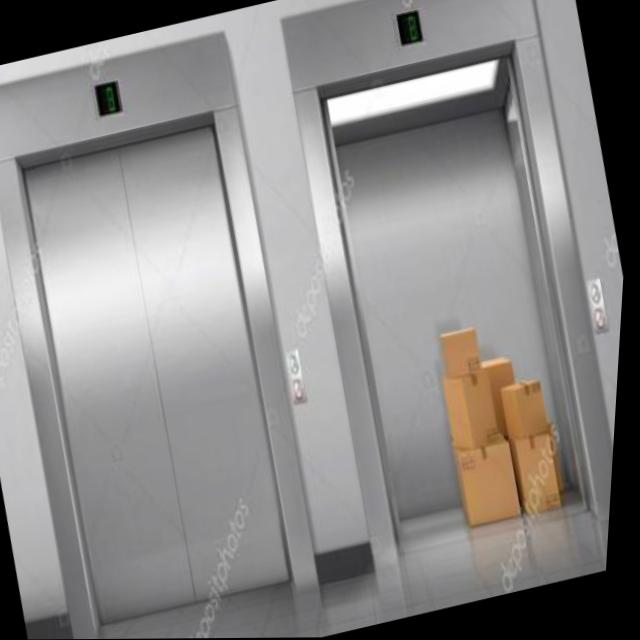box: (443, 414, 541, 548), (438, 361, 516, 460), (511, 424, 586, 520), (498, 372, 565, 451), (436, 317, 499, 393), (489, 354, 529, 407)
